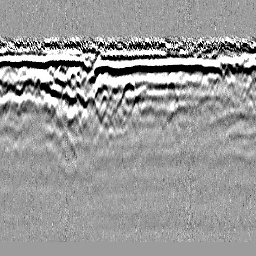cavity: (119, 75, 139, 105)
